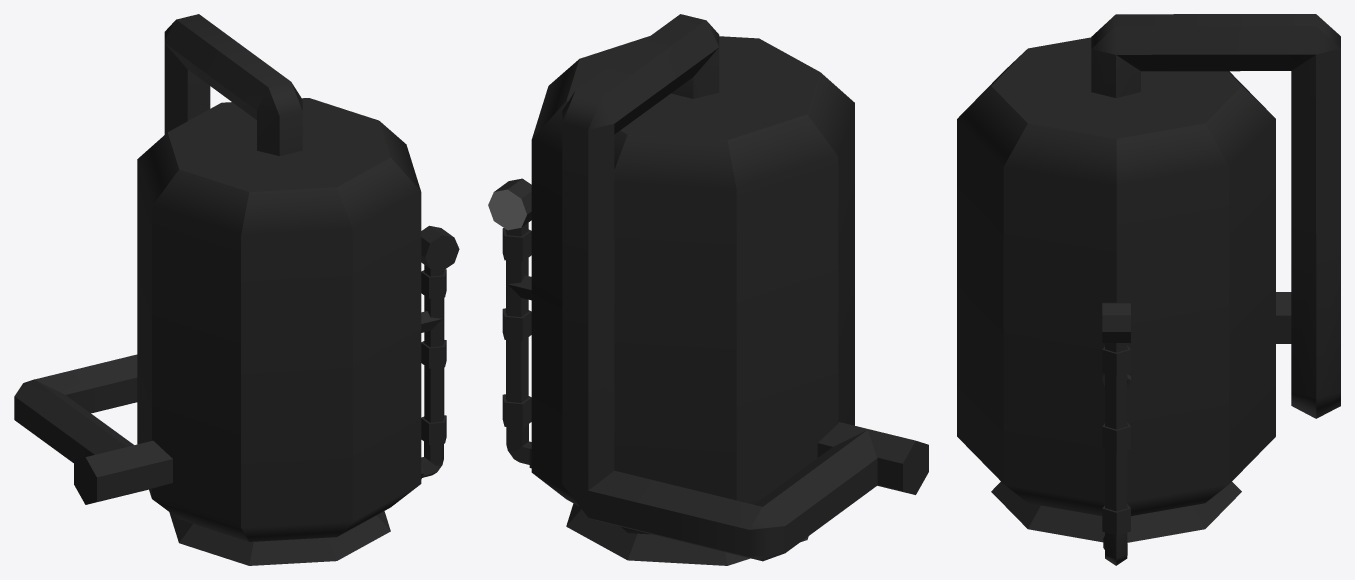
The model's file is f_boiler_room_boiler_meter.fbx.
The picture shows the model from 3 angles, left to right: view 1: azimuth 30°, elevation 25°; view 2: azimuth 150°, elevation 25°; view 3: azimuth 270°, elevation 25°; orthographic projection. The views are drawn at different scales.
Visible parts, largest first — view 1: Boiler, pipe_long, Base, pipe_join, pCylinder31, pCylinder33, pCylinder34; view 2: Boiler, pipe_long, Base, pipe_join, pCylinder31, pCylinder33, pCylinder34; view 3: Boiler, pipe_long, Base, pCylinder31, pCylinder33, pCylinder34.
Boxes of the visible parts, x1,y1,x2,y2 form: Boiler: (137,98,421,541); pipe_long: (14,14,302,462); Base: (169,511,390,565); pipe_join: (74,440,172,504); pCylinder31: (424,265,444,422); pCylinder33: (421,225,459,271); pCylinder34: (421,441,443,477); Boiler: (531,36,854,534); pipe_long: (562,14,877,561); Base: (566,503,808,565); pipe_join: (817,422,928,494); pCylinder31: (506,222,528,402); pCylinder33: (488,178,531,230); pCylinder34: (506,424,531,464); Boiler: (957,37,1275,515); pipe_long: (1091,14,1340,418); Base: (991,482,1241,542); pCylinder31: (1105,343,1127,511); pCylinder33: (1102,302,1130,342); pCylinder34: (1105,532,1127,565).
Bounding box in the file's own units: 179 × 202 × 149.
Materials: 1 (1 with a texture image).
